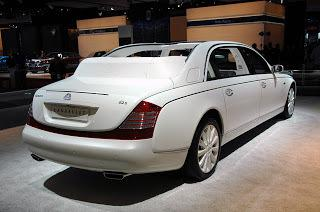Car: (12, 36, 302, 192)
